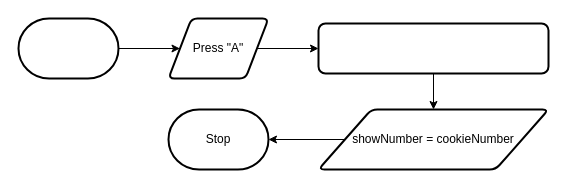
Image size: 566x187. Some labels were removed from this diagram. The box of each missing label's shape, as (x1, y1, x2, y2) in pixels:
cookieNumber = cookieNumber + 1: (317, 22, 549, 74)
Start: (17, 17, 119, 79)
